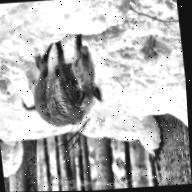boar: (0, 35, 106, 144)
